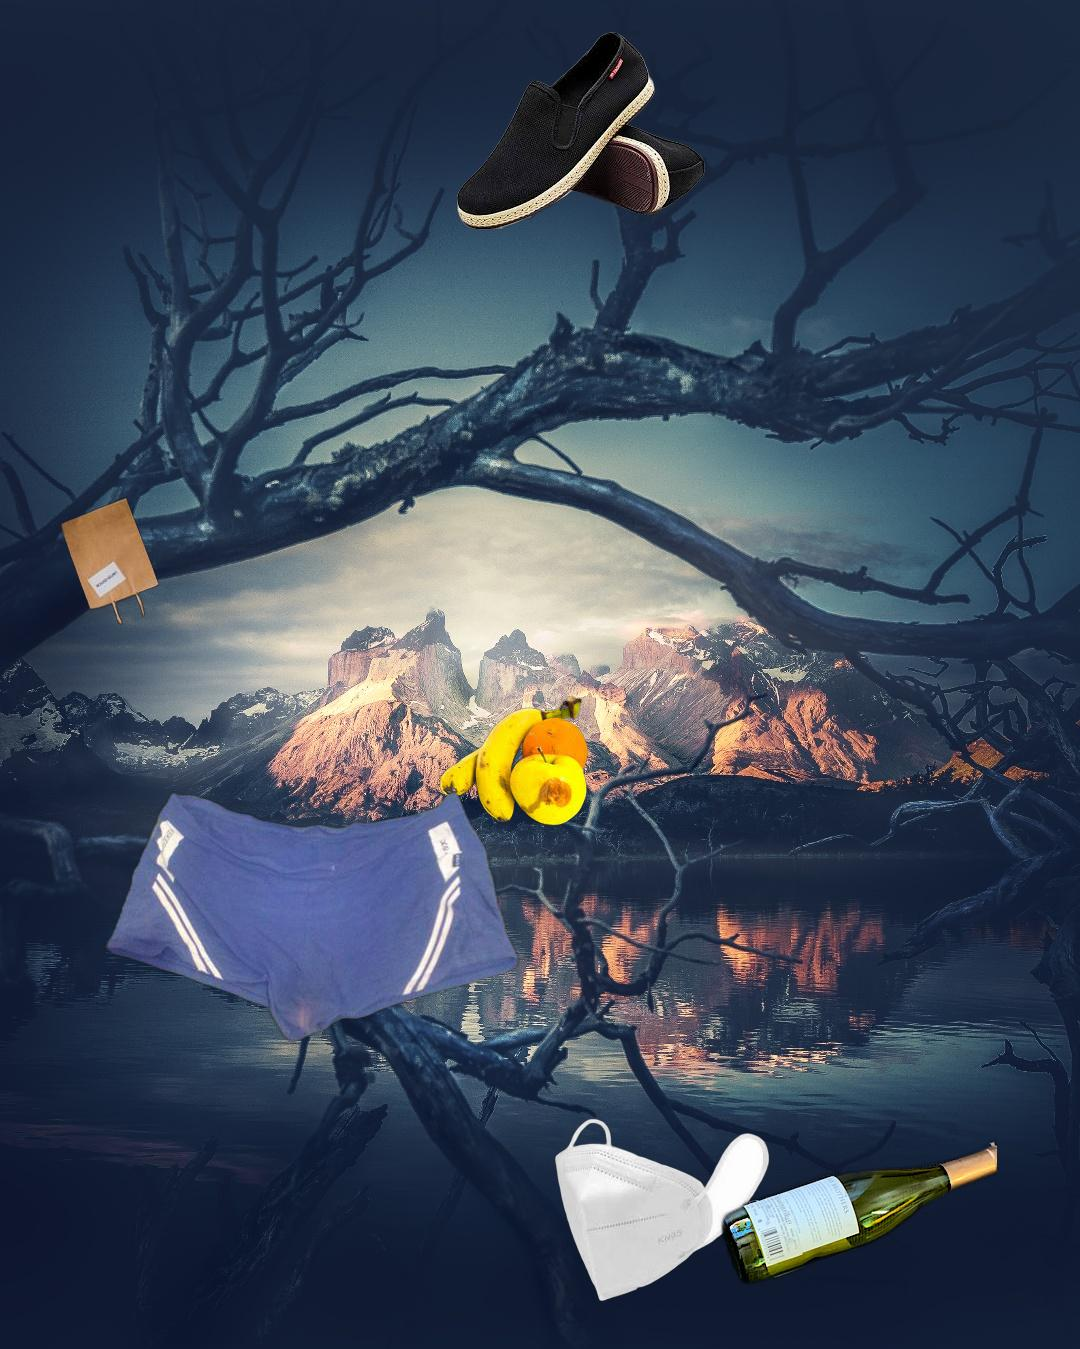biological: (438, 694, 591, 828)
clothes: (100, 788, 525, 1046)
glass: (499, 1132, 997, 1349)
paper-bag: (57, 495, 162, 627)
shoes: (455, 31, 708, 231)
trash: (552, 1116, 773, 1304)
